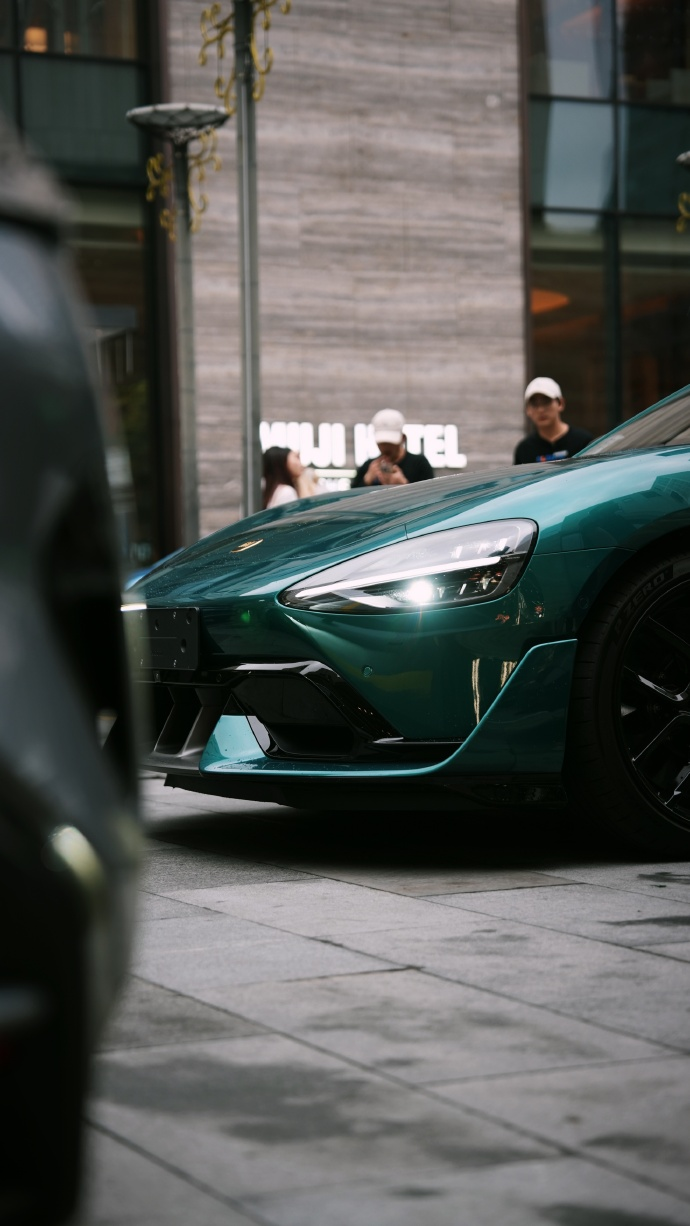su7: (120, 396, 690, 872)
